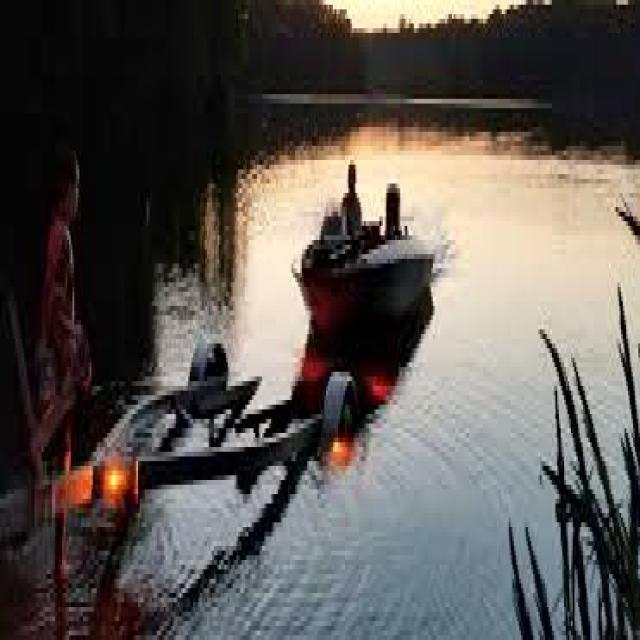ship2: (299, 160, 434, 365)
